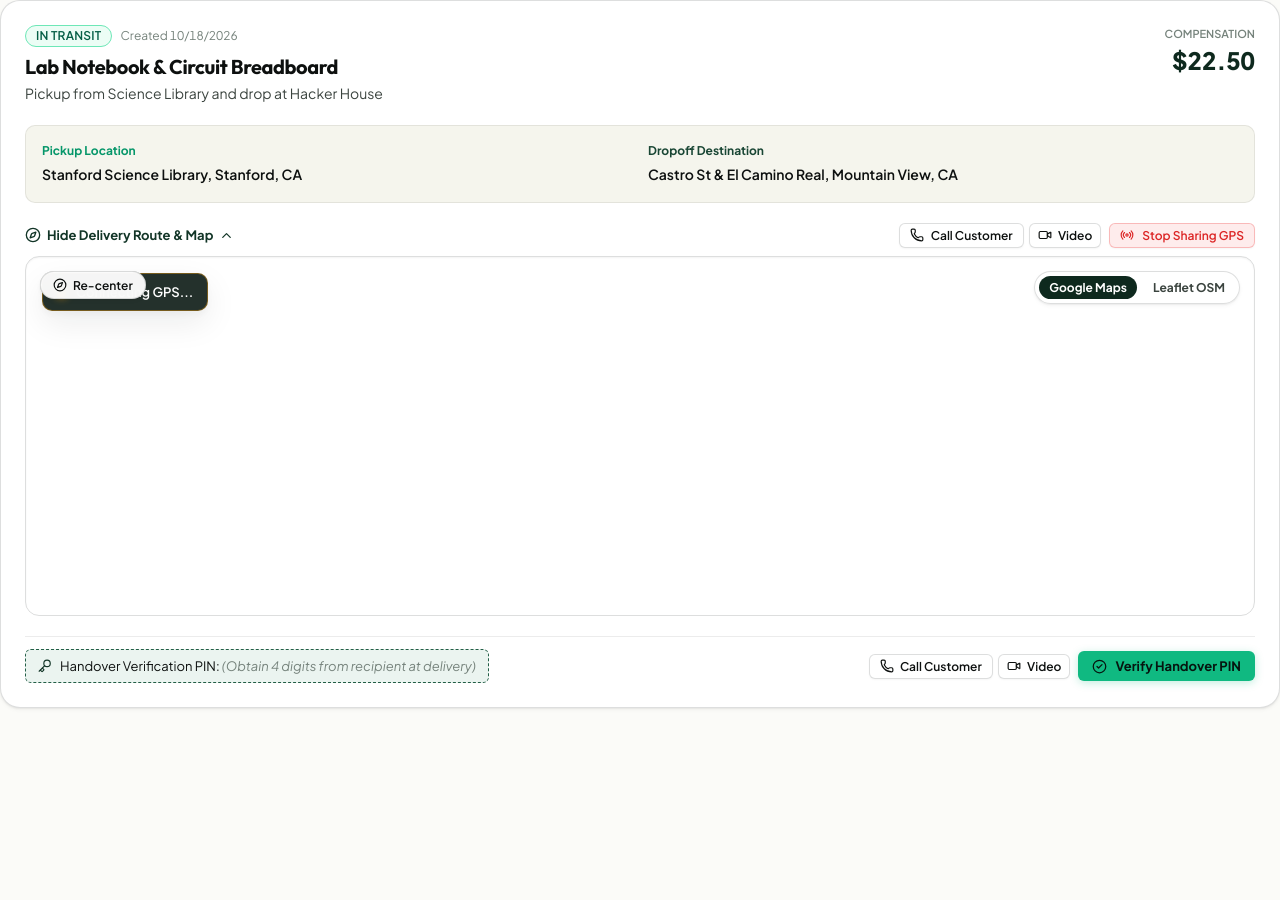
Scenario: DeliveryCard — Partner Accept & Decline Delivery Buttons › Bug 2: Verify Handover PIN Drawer Flow › displays error message gracefully when PIN verification returns an error
Click the button with test id "verify-handover-pin-button".
click(1167, 666)  # box top-left (1078, 651), bottom-right (1255, 681)
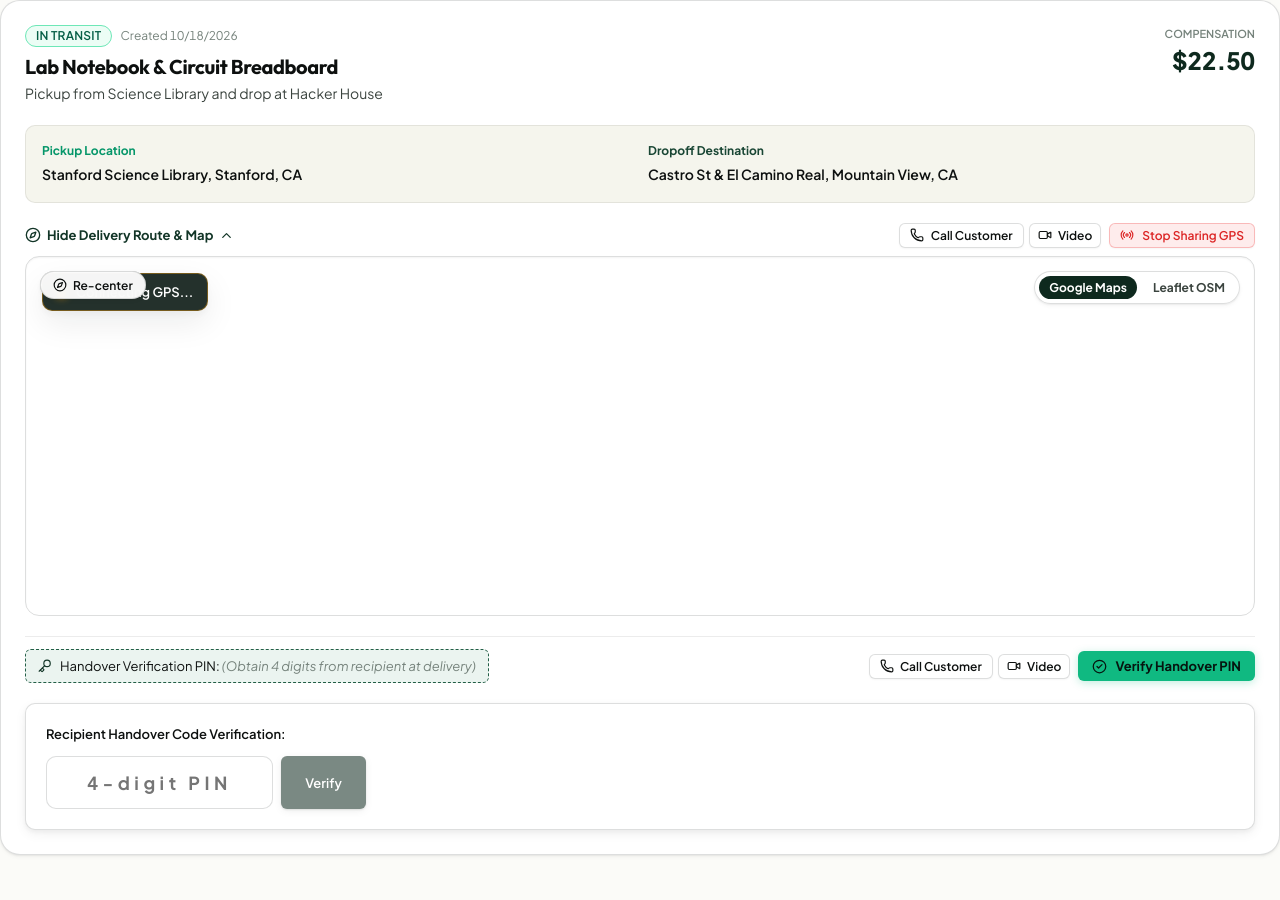
Type "0000" into the field with placeholder "4-digit PIN".
click(160, 783); type("0000")  # box top-left (46, 756), bottom-right (273, 809)
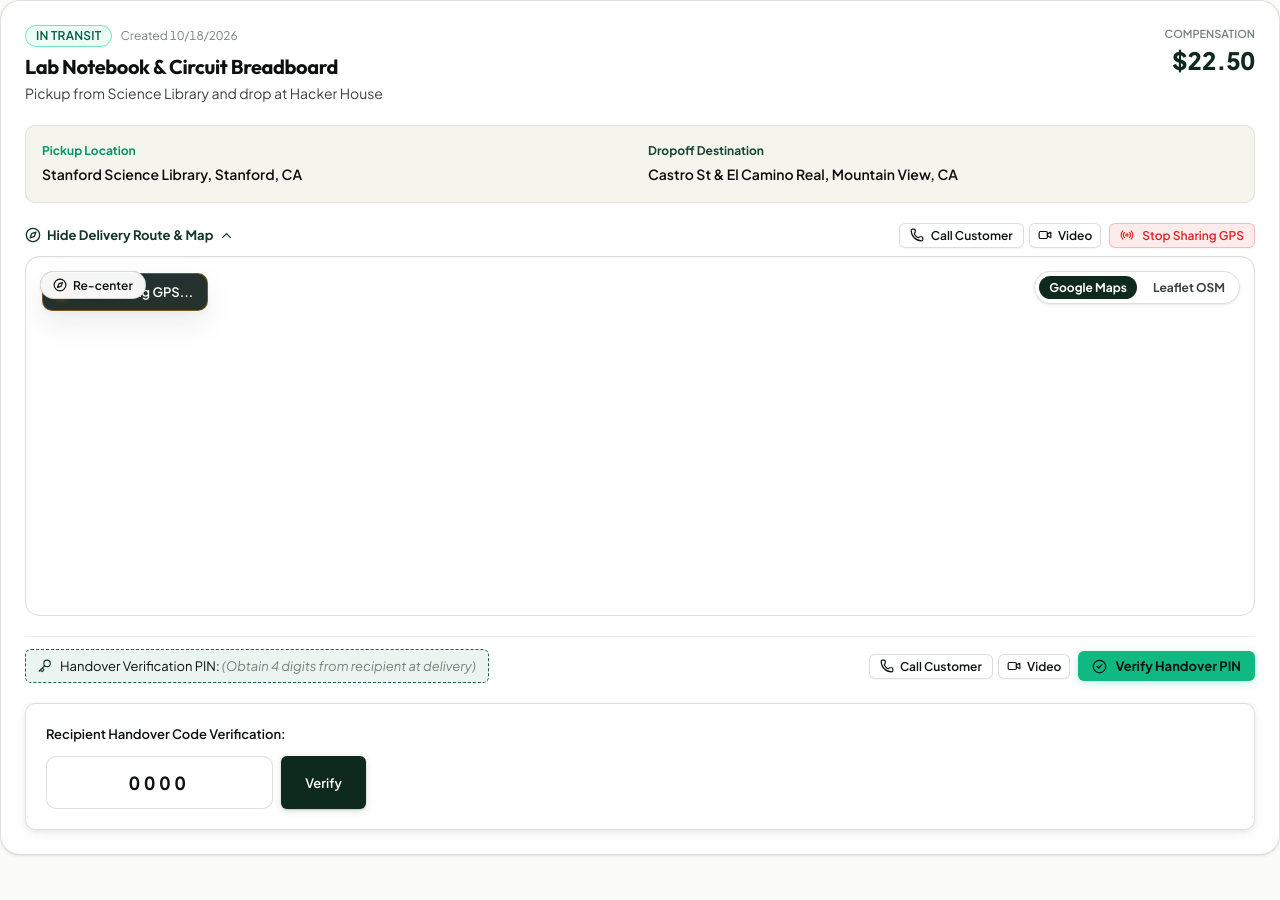
Click the button with test id "submit-verify-pin-button".
click(324, 783)  # box top-left (281, 756), bottom-right (366, 809)
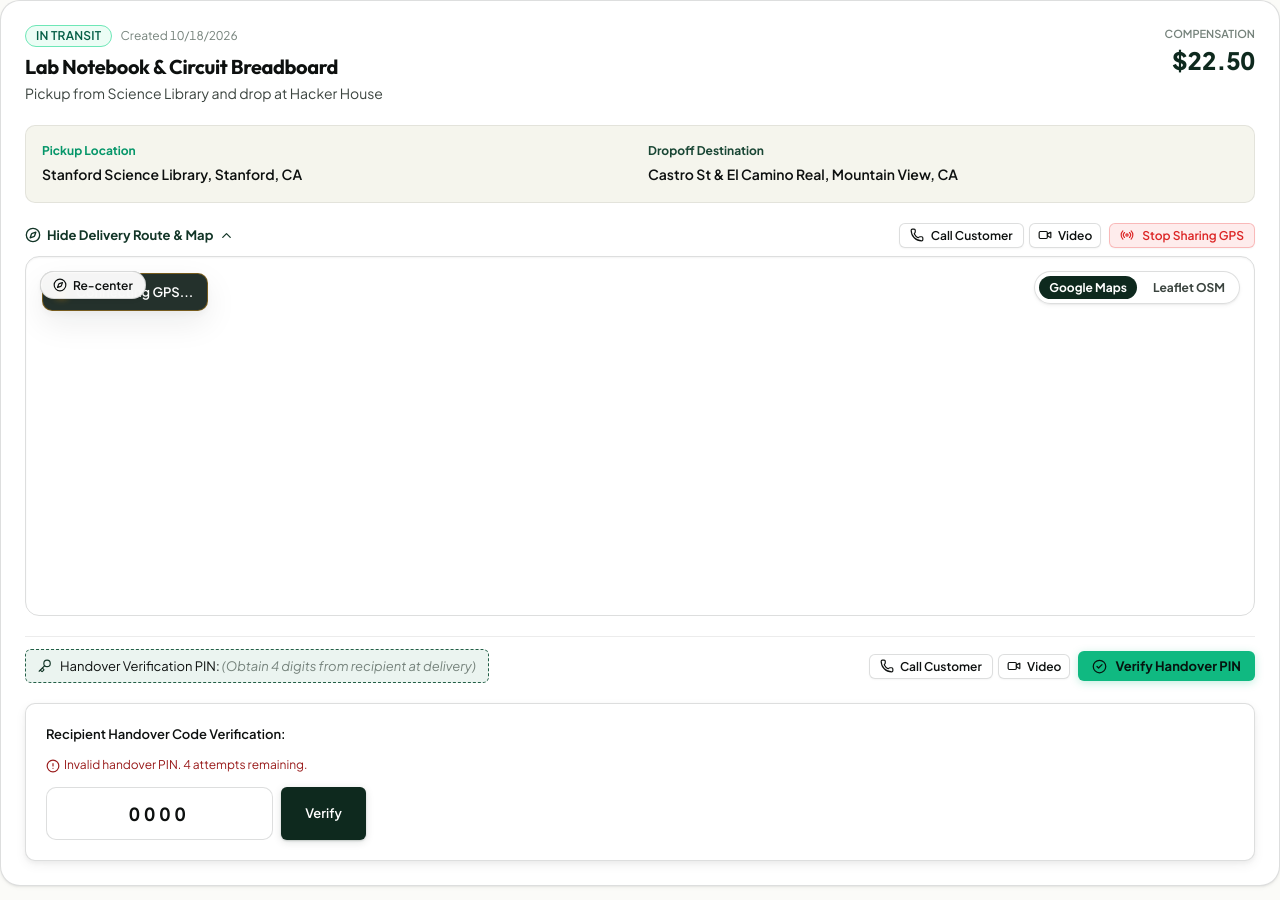
Expected: the text "Invalid handover PIN. 4 attempts remaining." is shown, top-left (64, 756), bottom-right (307, 775)
